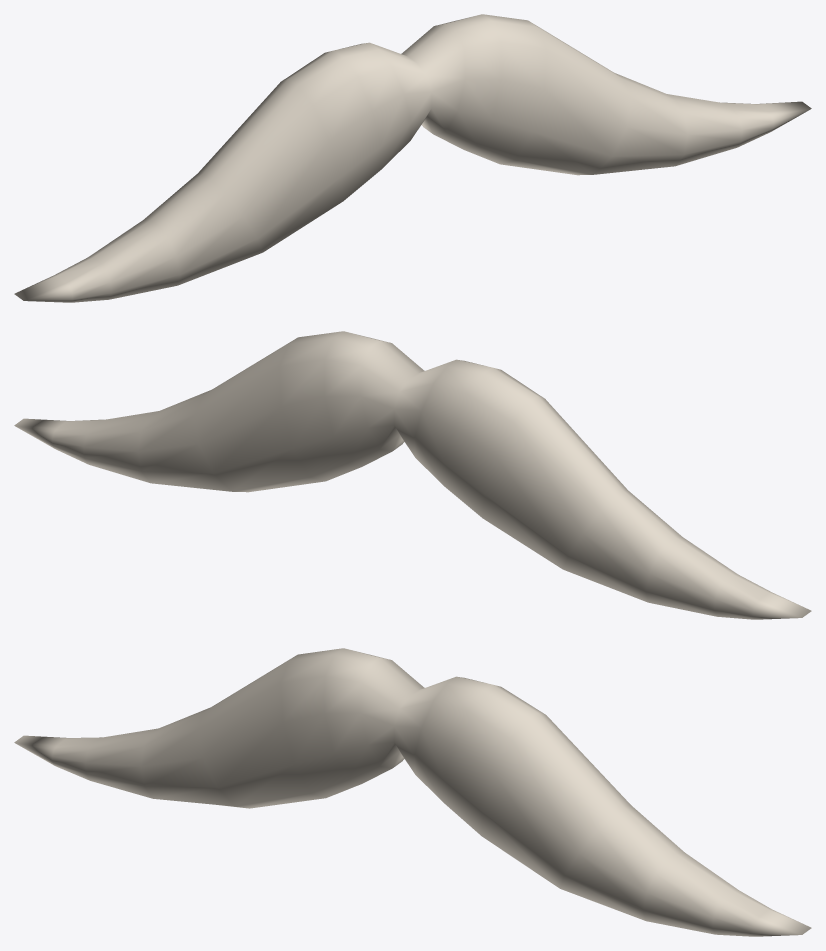
Rendered from Beard_12_07.fbx.
The picture shows the model from 3 angles, top to bottom: view 1: azimuth 30°, elevation 25°; view 2: azimuth 150°, elevation 25°; view 3: azimuth 330°, elevation 25°; orthographic projection.
Parts seen in each view (by area): view 1: Beard_12_07; view 2: Beard_12_07; view 3: Beard_12_07.
Part boxes in pixels (x1,y1,x2,y2): Beard_12_07: (14,14,811,302); Beard_12_07: (14,331,811,619); Beard_12_07: (14,648,811,936).
Bounding box in the file's own units: 19.83 × 4.47 × 2.17.
